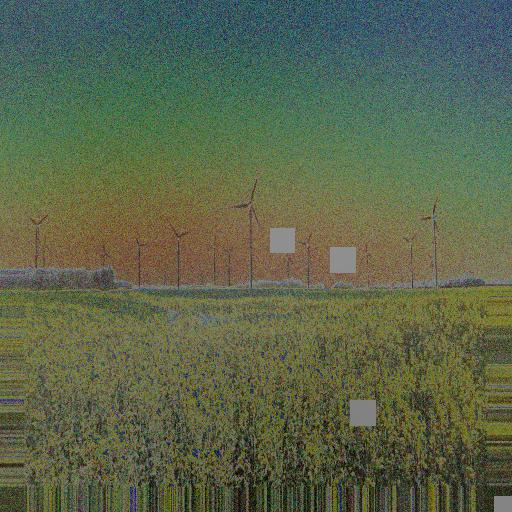wind turbine: (230, 180, 263, 294), (421, 194, 447, 289), (162, 216, 190, 284), (23, 208, 48, 272)
